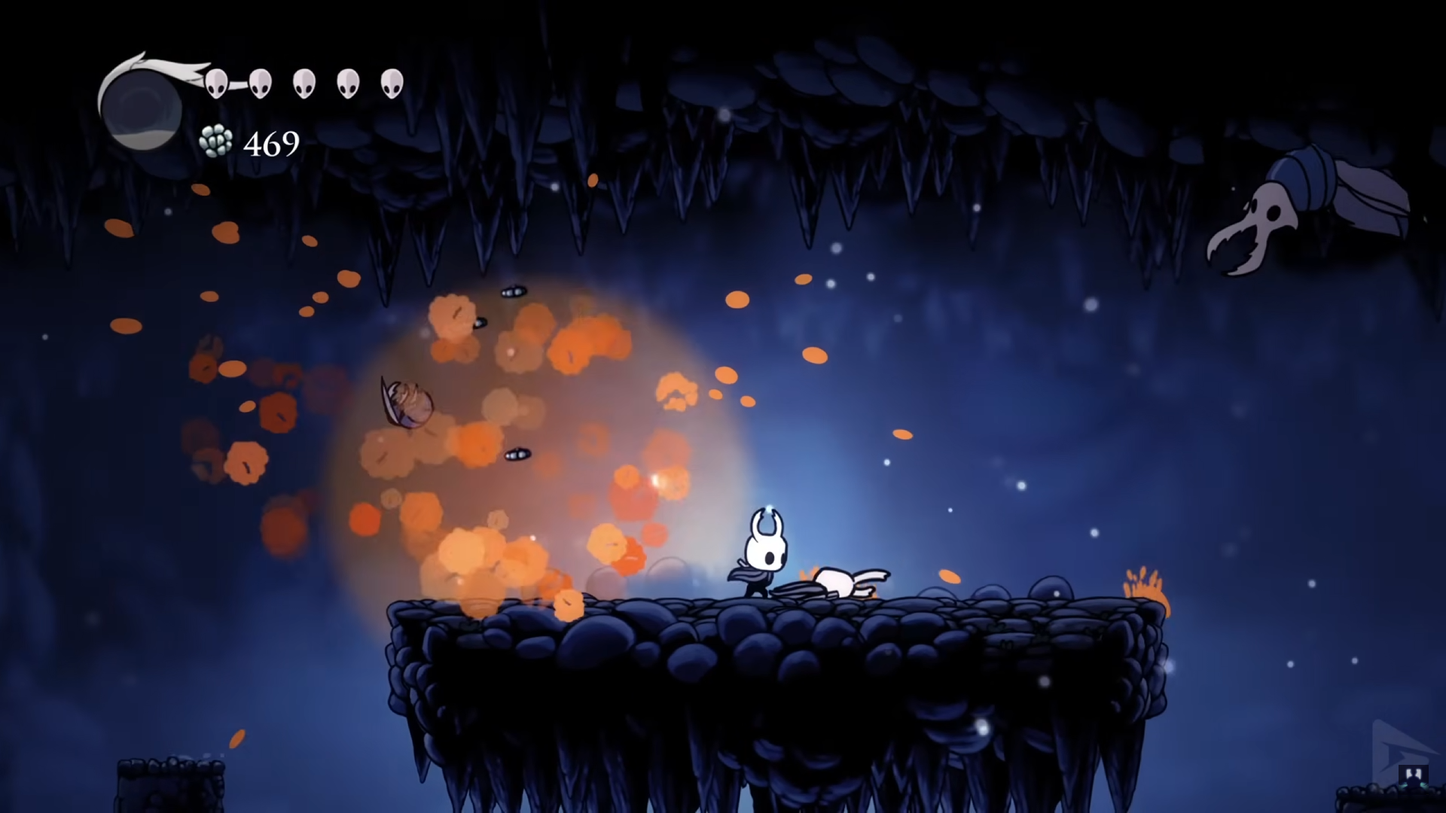HK: (728, 504, 794, 600)
